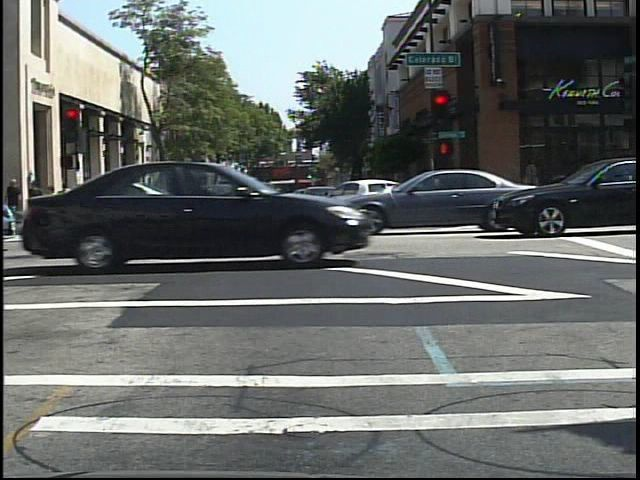person: (137, 181, 154, 217), (134, 181, 149, 214)
